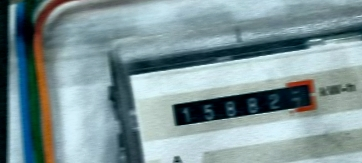1: (180, 104, 192, 123)
2: (267, 90, 280, 108)
5: (201, 101, 215, 119)
7: (290, 94, 302, 108)
8: (224, 98, 237, 116), (246, 95, 258, 112)
screen: (164, 74, 323, 131)
